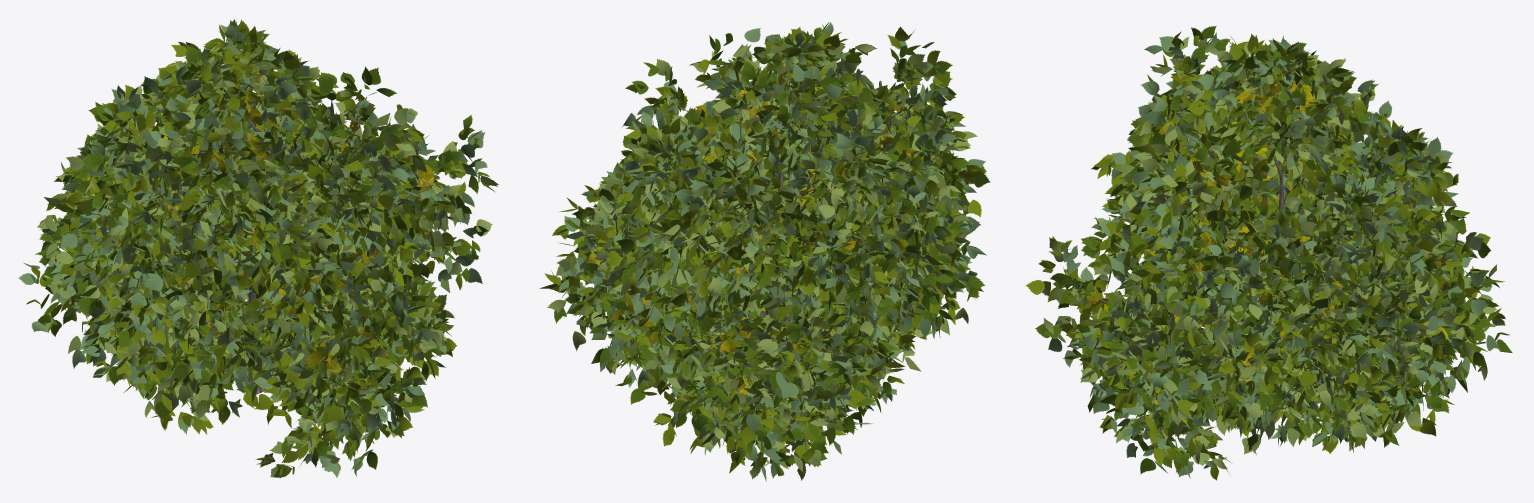
File: plant-0-near.glb
The picture shows the model from 3 angles, left to right: view 1: azimuth 30°, elevation 25°; view 2: azimuth 150°, elevation 25°; view 3: azimuth 270°, elevation 25°; orthographic projection.
Visible parts, largest first — view 1: Bush 3 (smaller)_Leaf_v2_Mat_0, Bush 3 (smaller)_Leaf_v4_Mat_0, Bush 3 (smaller)_Leaf_Mat_0, Bush 3 (smaller)_Leaf_v3_Mat_0, Bush 3 (smaller)_Leaf2_Mat_0, Bush 3 (smaller)_Bark_Mat_0; view 2: Bush 3 (smaller)_Leaf_Mat_0, Bush 3 (smaller)_Leaf_v2_Mat_0, Bush 3 (smaller)_Leaf_v3_Mat_0, Bush 3 (smaller)_Leaf_v4_Mat_0, Bush 3 (smaller)_Leaf2_Mat_0; view 3: Bush 3 (smaller)_Leaf_Mat_0, Bush 3 (smaller)_Leaf_v4_Mat_0, Bush 3 (smaller)_Leaf_v2_Mat_0, Bush 3 (smaller)_Leaf_v3_Mat_0, Bush 3 (smaller)_Leaf2_Mat_0, Bush 3 (smaller)_Bark_Mat_0.
Boxes of the visible parts, x1,y1,x2,y2 form: Bush 3 (smaller)_Leaf_v2_Mat_0: (31, 19, 482, 470); Bush 3 (smaller)_Leaf_v4_Mat_0: (18, 22, 487, 477); Bush 3 (smaller)_Leaf_Mat_0: (26, 20, 498, 477); Bush 3 (smaller)_Leaf_v3_Mat_0: (37, 19, 497, 477); Bush 3 (smaller)_Leaf2_Mat_0: (87, 40, 435, 431); Bush 3 (smaller)_Bark_Mat_0: (84, 93, 436, 394); Bush 3 (smaller)_Leaf_Mat_0: (539, 27, 990, 476); Bush 3 (smaller)_Leaf_v2_Mat_0: (544, 26, 986, 469); Bush 3 (smaller)_Leaf_v3_Mat_0: (547, 22, 983, 480); Bush 3 (smaller)_Leaf_v4_Mat_0: (558, 22, 986, 481); Bush 3 (smaller)_Leaf2_Mat_0: (584, 59, 946, 444); Bush 3 (smaller)_Leaf_Mat_0: (1035, 26, 1512, 474); Bush 3 (smaller)_Leaf_v4_Mat_0: (1042, 31, 1498, 478); Bush 3 (smaller)_Leaf_v2_Mat_0: (1025, 31, 1505, 480); Bush 3 (smaller)_Leaf_v3_Mat_0: (1042, 36, 1509, 469); Bush 3 (smaller)_Leaf2_Mat_0: (1085, 62, 1455, 445); Bush 3 (smaller)_Bark_Mat_0: (1091, 83, 1443, 450).
Size of the model in its own units: 1.08 by 1.1 by 1.15.
6 materials, 6 textured.
